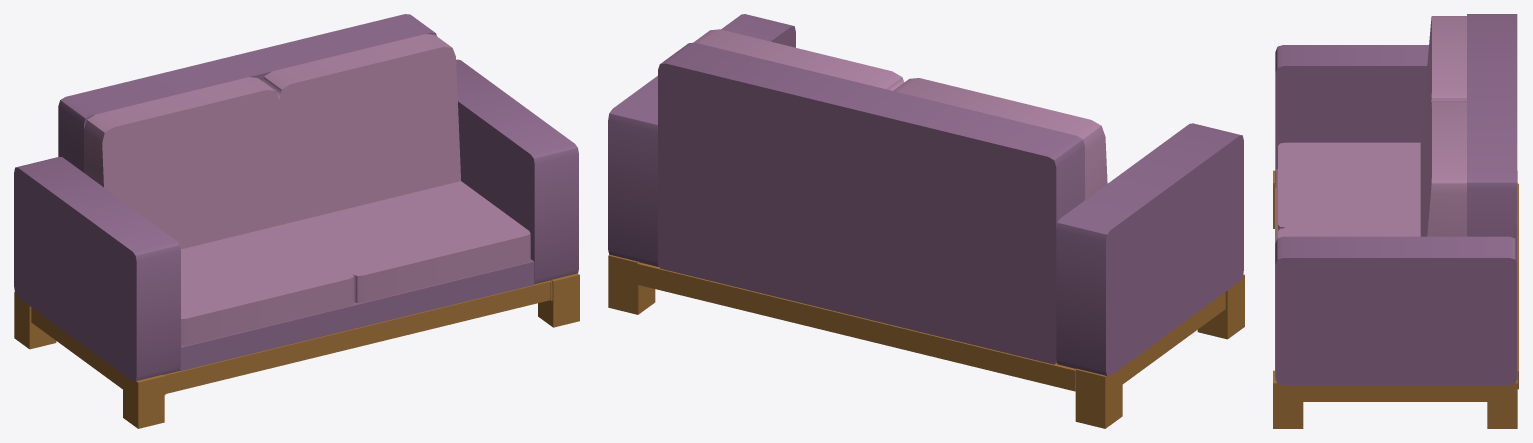
File: Sofa.fbx
3 views of the same model, side by side, from view 1: azimuth 30°, elevation 25°; view 2: azimuth 150°, elevation 25°; view 3: azimuth 270°, elevation 25° (orthographic). The views are drawn at different scales.
Parts seen in each view (by area): view 1: Sofa; view 2: Sofa; view 3: Sofa.
Part boxes in pixels (left/top/right/bottom): Sofa: left=14, top=14, right=579, bottom=428; Sofa: left=608, top=14, right=1244, bottom=428; Sofa: left=1273, top=14, right=1518, bottom=428.
Size of the model in its own units: 250 by 124 by 122.
